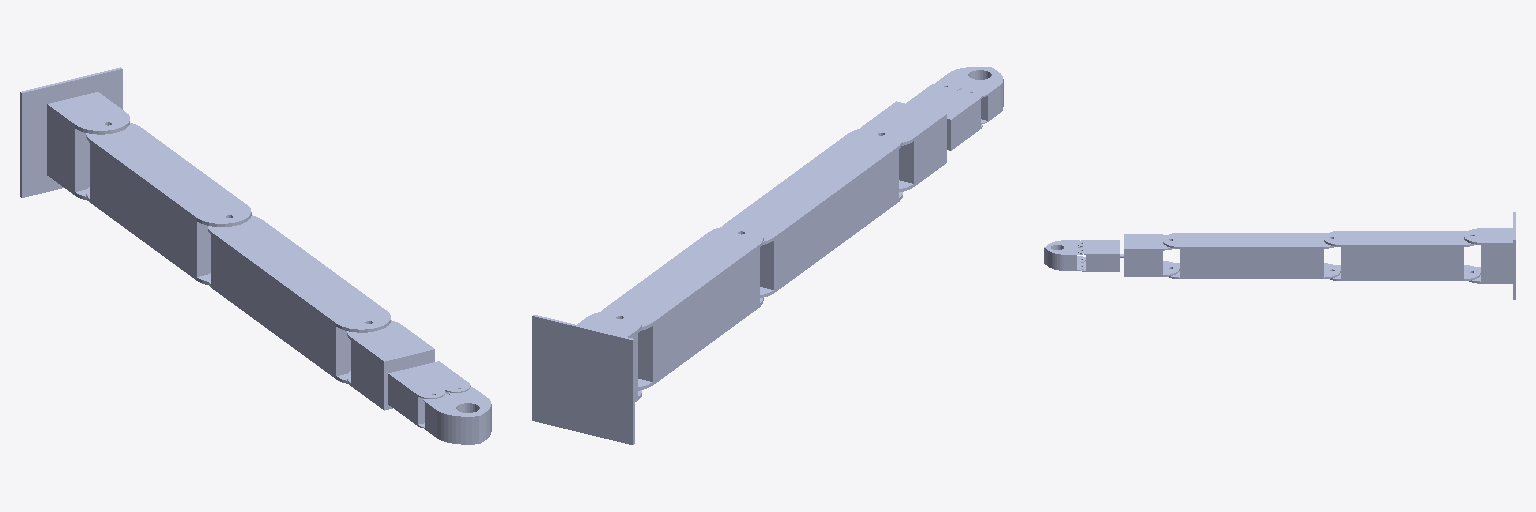
The robot description file, URDF, robot "collarm":
<?xml version="1.0" encoding="utf-8"?>
<!-- This URDF was automatically created by SolidWorks to URDF Exporter! Originally created by [author] ([email redacted]) 
     Commit Version: 1.5.1-0-g916b5db  Build Version: 1.5.7152.31018
     For more information, please see http://wiki.ros.org/sw_urdf_exporter -->
<robot
  name="collarm">
  <link
    name="base_link">
    <inertial>
      <origin
        xyz="0.0013534 0.00175 0.055542"
        rpy="0 0 0" />
      <mass
        value="0.118" />
      <inertia
        ixx="0.00022082"
        ixy="-7.5508E-22"
        ixz="-9.9376E-21"
        iyy="0.00022082"
        iyz="-6.569E-19"
        izz="0.00042194" />
    </inertial>
    <visual>
      <origin
        xyz="0 0 0"
        rpy="0 0 0" />
      <geometry>
        <mesh
          filename="package://collarm/meshes/base_link.STL" />
      </geometry>
      <material
        name="">
        <color
          rgba="0.79216 0.81961 0.93333 1" />
      </material>
    </visual>
    <collision>
      <origin
        xyz="0 0 0"
        rpy="0 0 0" />
      <geometry>
        <mesh
          filename="package://collarm/meshes/base_link.STL" />
      </geometry>
    </collision>
  </link>
  <link
    name="upbase_link">
    <inertial>
      <origin
        xyz="-1.4745E-17 -0.016989 0.0508"
        rpy="0 0 0" />
      <mass
        value="0.58842" />
      <inertia
        ixx="0.00085482"
        ixy="6.2042E-20"
        ixz="1.5771E-20"
        iyy="0.00082214"
        iyz="-1.9538E-19"
        izz="0.00059713" />
    </inertial>
    <visual>
      <origin
        xyz="0 0 0"
        rpy="0 0 0" />
      <geometry>
        <mesh
          filename="package://collarm/meshes/upbase_link.STL" />
      </geometry>
      <material
        name="">
        <color
          rgba="0.79216 0.81961 0.93333 1" />
      </material>
    </visual>
    <collision>
      <origin
        xyz="0 0 0"
        rpy="0 0 0" />
      <geometry>
        <mesh
          filename="package://collarm/meshes/upbase_link.STL" />
      </geometry>
    </collision>
  </link>
  <joint
    name="upbase_joint"
    type="revolute">
    <origin
      xyz="0.0013534 -0.11186 0.05255"
      rpy="-3.1416 0 0" />
    <parent
      link="base_link" />
    <child
      link="upbase_link" />
    <axis
      xyz="0 1 0" />
    <limit
      lower="-1.57"
      upper="1.57"
      effort="5"
      velocity="0.5" />
  </joint>
  <link
    name="prox_link">
    <inertial>
      <origin
        xyz="-1.1493E-17 5.5511E-17 0.045"
        rpy="0 0 0" />
      <mass
        value="1.9378" />
      <inertia
        ixx="0.014439"
        ixy="2.9886E-18"
        ixz="-1.3249E-19"
        iyy="0.0022903"
        iyz="7.8841E-19"
        izz="0.014015" />
    </inertial>
    <visual>
      <origin
        xyz="0 0 0"
        rpy="0 0 0" />
      <geometry>
        <mesh
          filename="package://collarm/meshes/prox_link.STL" />
      </geometry>
      <material
        name="">
        <color
          rgba="0.79216 0.81961 0.93333 1" />
      </material>
    </visual>
    <collision>
      <origin
        xyz="0 0 0"
        rpy="0 0 0" />
      <geometry>
        <mesh
          filename="package://collarm/meshes/prox_link.STL" />
      </geometry>
    </collision>
  </link>
  <joint
    name="prox_joint"
    type="revolute">
    <origin
      xyz="0 0.19368 0.0058"
      rpy="0 0 0" />
    <parent
      link="upbase_link" />
    <child
      link="prox_link" />
    <axis
      xyz="0 0 1" />
    <limit
      lower="-1.57"
      upper="1.57"
      effort="5"
      velocity="0.5" />
  </joint>
  <link
    name="distal_link">
    <inertial>
      <origin
        xyz="-1.4745E-17 0 0.04"
        rpy="0 0 0" />
      <mass
        value="2.0127" />
      <inertia
        ixx="0.019589"
        ixy="7.2214E-19"
        ixz="8.5433E-20"
        iyy="0.002078"
        iyz="-2.765E-19"
        izz="0.019451" />
    </inertial>
    <visual>
      <origin
        xyz="0 0 0"
        rpy="0 0 0" />
      <geometry>
        <mesh
          filename="package://collarm/meshes/distal_link.STL" />
      </geometry>
      <material
        name="">
        <color
          rgba="0.79216 0.81961 0.93333 1" />
      </material>
    </visual>
    <collision>
      <origin
        xyz="0 0 0"
        rpy="0 0 0" />
      <geometry>
        <mesh
          filename="package://collarm/meshes/distal_link.STL" />
      </geometry>
    </collision>
  </link>
  <joint
    name="distal_joint"
    type="revolute">
    <origin
      xyz="0 0.33811 0.0050674"
      rpy="0 0 0" />
    <parent
      link="prox_link" />
    <child
      link="distal_link" />
    <axis
      xyz="0 0 1" />
    <limit
      lower="-1.57"
      upper="1.57"
      effort="5"
      velocity="0.5" />
  </joint>
  <link
    name="wrist_link">
    <inertial>
      <origin
        xyz="-2.537E-17 -0.0014726 0.035"
        rpy="0 0 0" />
      <mass
        value="0.48493" />
      <inertia
        ixx="0.00059851"
        ixy="-1.3199E-19"
        ixz="-2.2313E-21"
        iyy="0.00043866"
        iyz="-1.3288E-19"
        izz="0.0006197" />
    </inertial>
    <visual>
      <origin
        xyz="0 0 0"
        rpy="0 0 0" />
      <geometry>
        <mesh
          filename="package://collarm/meshes/wrist_link.STL" />
      </geometry>
      <material
        name="">
        <color
          rgba="0.79216 0.81961 0.93333 1" />
      </material>
    </visual>
    <collision>
      <origin
        xyz="0 0 0"
        rpy="0 0 0" />
      <geometry>
        <mesh
          filename="package://collarm/meshes/wrist_link.STL" />
      </geometry>
    </collision>
  </link>
  <joint
    name="wrist_joint"
    type="revolute">
    <origin
      xyz="0 0.24313 0.0044118"
      rpy="0 0 0" />
    <parent
      link="distal_link" />
    <child
      link="wrist_link" />
    <axis
      xyz="0 0 1" />
    <limit
      lower="-1.57"
      upper="1.57"
      effort="5"
      velocity="0.5" />
  </joint>
  <link
    name="subfing_link">
    <inertial>
      <origin
        xyz="1.5179E-18 0.038955 -7.8063E-18"
        rpy="0 0 0" />
      <mass
        value="0.25614" />
      <inertia
        ixx="0.00017484"
        ixy="2.4512E-20"
        ixz="-3.6189E-21"
        iyy="0.00017072"
        iyz="-3.7104E-21"
        izz="0.00025723" />
    </inertial>
    <visual>
      <origin
        xyz="0 0 0"
        rpy="0 0 0" />
      <geometry>
        <mesh
          filename="package://collarm/meshes/subfing_link.STL" />
      </geometry>
      <material
        name="">
        <color
          rgba="0.79216 0.81961 0.93333 1" />
      </material>
    </visual>
    <collision>
      <origin
        xyz="0 0 0"
        rpy="0 0 0" />
      <geometry>
        <mesh
          filename="package://collarm/meshes/subfing_link.STL" />
      </geometry>
    </collision>
  </link>
  <joint
    name="subfing_joint"
    type="revolute">
    <origin
      xyz="0 0.05313 0.035"
      rpy="0 0 0" />
    <parent
      link="wrist_link" />
    <child
      link="subfing_link" />
    <axis
      xyz="0 1 0" />
    <limit
      lower="-1.57"
      upper="1.57"
      effort="5"
      velocity="0.5" />
  </joint>
  <link
    name="finger2_link">
    <inertial>
      <origin
        xyz="-0.00027571 -0.001852 0.02"
        rpy="0 0 0" />
      <mass
        value="0.081443" />
      <inertia
        ixx="4.3829E-05"
        ixy="-1.8224E-06"
        ixz="-2.7174E-12"
        iyy="1.9906E-05"
        iyz="8.9567E-12"
        izz="4.1116E-05" />
    </inertial>
    <visual>
      <origin
        xyz="0 0 0"
        rpy="0 0 0" />
      <geometry>
        <mesh
          filename="package://collarm/meshes/finger2_link.STL" />
      </geometry>
      <material
        name="">
        <color
          rgba="0.79216 0.81961 0.93333 1" />
      </material>
    </visual>
    <collision>
      <origin
        xyz="0 0 0"
        rpy="0 0 0" />
      <geometry>
        <mesh
          filename="package://collarm/meshes/finger2_link.STL" />
      </geometry>
    </collision>
  </link>
  <joint
    name="finger2_joint"
    type="revolute">
    <origin
      xyz="-0.01905 0.12535 -0.020524"
      rpy="0 0 0" />
    <parent
      link="subfing_link" />
    <child
      link="finger2_link" />
    <axis
      xyz="0 0 1" />
    <limit
      lower="-1.57"
      upper="1.57"
      effort="5"
      velocity="0.5" />
  </joint>
  <link
    name="finger1_link">
    <inertial>
      <origin
        xyz="-0.00027571 -0.001852 0.02"
        rpy="0 0 0" />
      <mass
        value="0.081443" />
      <inertia
        ixx="4.3829E-05"
        ixy="-1.8224E-06"
        ixz="-2.7174E-12"
        iyy="1.9906E-05"
        iyz="8.9567E-12"
        izz="4.1116E-05" />
    </inertial>
    <visual>
      <origin
        xyz="0 0 0"
        rpy="0 0 0" />
      <geometry>
        <mesh
          filename="package://collarm/meshes/finger1_link.STL" />
      </geometry>
      <material
        name="">
        <color
          rgba="0.79216 0.81961 0.93333 1" />
      </material>
    </visual>
    <collision>
      <origin
        xyz="0 0 0"
        rpy="0 0 0" />
      <geometry>
        <mesh
          filename="package://collarm/meshes/finger1_link.STL" />
      </geometry>
    </collision>
  </link>
  <joint
    name="finger1_joint"
    type="revolute">
    <origin
      xyz="0.01905 0.12535 0.019476"
      rpy="-3.1416 0 3.1416" />
    <parent
      link="subfing_link" />
    <child
      link="finger1_link" />
    <axis
      xyz="0 0 -1" />
    <limit
      lower="-1.57"
      upper="1.57"
      effort="5"
      velocity="0.5" />
  </joint>
</robot>

--- Facts derived from the render (not from the file) ---
Views: 3 orthographic renders of the robot side by side, from view 1: azimuth 30°, elevation 25°; view 2: azimuth 150°, elevation 25°; view 3: azimuth 270°, elevation 25°.
Model collarm with 8 links and 7 joints (7 revolute), rooted at base_link, posed all joints at 0.
Visible links, largest first — view 1: distal_link, prox_link, upbase_link, base_link, wrist_link, subfing_link, finger2_link, finger1_link; view 2: distal_link, prox_link, base_link, wrist_link, subfing_link, upbase_link, finger2_link, finger1_link; view 3: distal_link, prox_link, upbase_link, wrist_link, subfing_link, finger1_link.
Boxes of the visible links, bbox=[...] form: distal_link: bbox=[208, 215, 390, 383]; prox_link: bbox=[86, 123, 251, 284]; upbase_link: bbox=[47, 92, 129, 200]; base_link: bbox=[20, 67, 122, 197]; wrist_link: bbox=[347, 320, 434, 410]; subfing_link: bbox=[388, 361, 470, 427]; finger2_link: bbox=[423, 393, 478, 444]; finger1_link: bbox=[449, 387, 491, 443]; distal_link: bbox=[722, 127, 902, 297]; prox_link: bbox=[601, 226, 763, 390]; base_link: bbox=[532, 315, 634, 444]; wrist_link: bbox=[860, 101, 946, 191]; subfing_link: bbox=[906, 83, 982, 150]; upbase_link: bbox=[577, 311, 641, 401]; finger2_link: bbox=[961, 67, 1003, 124]; finger1_link: bbox=[935, 67, 989, 90]; distal_link: bbox=[1163, 233, 1340, 278]; prox_link: bbox=[1324, 231, 1480, 280]; upbase_link: bbox=[1464, 228, 1512, 283]; wrist_link: bbox=[1120, 234, 1179, 276]; subfing_link: bbox=[1078, 240, 1119, 271]; finger1_link: bbox=[1044, 248, 1085, 270].
Bounding box of the posed robot: 0.15 × 1.06 × 0.15 m (x, y, z).
8 mesh visuals loaded from 8 distinct referenced files (8 binary STL).